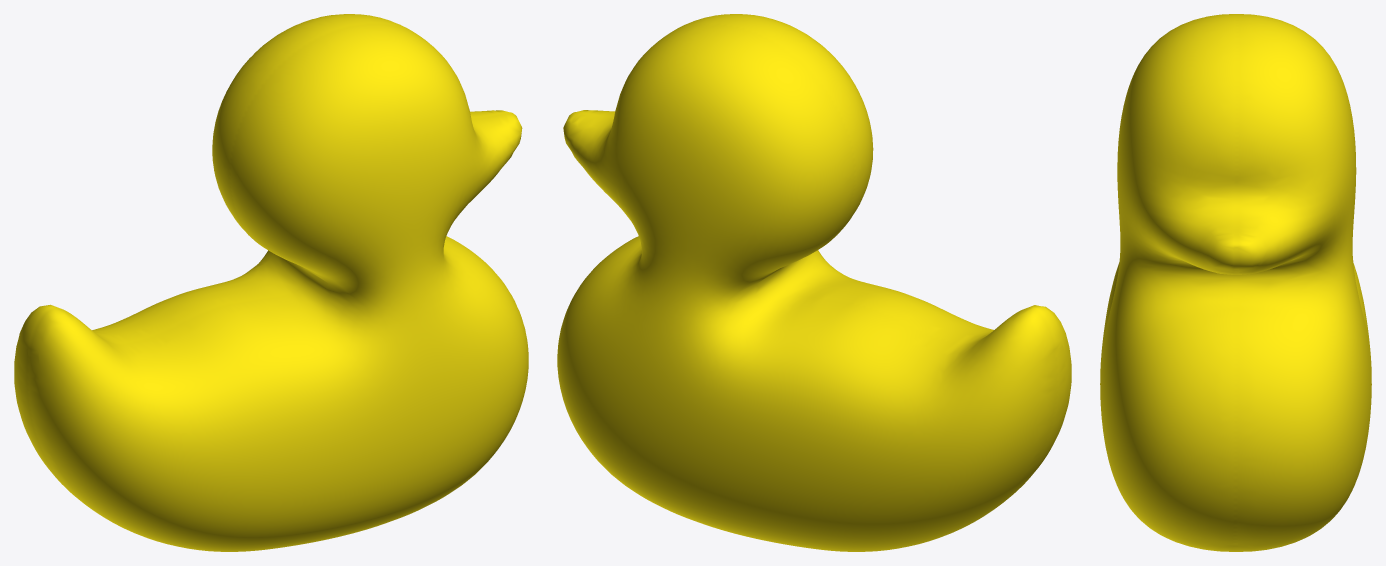
File: duck3d.glb
3 renders of one model, left to right at view 1: azimuth 30°, elevation 25°; view 2: azimuth 150°, elevation 25°; view 3: azimuth 270°, elevation 25°, orthographic. The views are drawn at different scales.
Parts seen in each view (by area): view 1: Ativo 1pato; view 2: Ativo 1pato; view 3: Ativo 1pato.
Part boxes in pixels (left/top/right/bottom): Ativo 1pato: left=14, top=14, right=528, bottom=551; Ativo 1pato: left=557, top=14, right=1071, bottom=551; Ativo 1pato: left=1100, top=14, right=1371, bottom=551.
Size of the model in its own units: 3.56 by 3.36 by 1.64.
